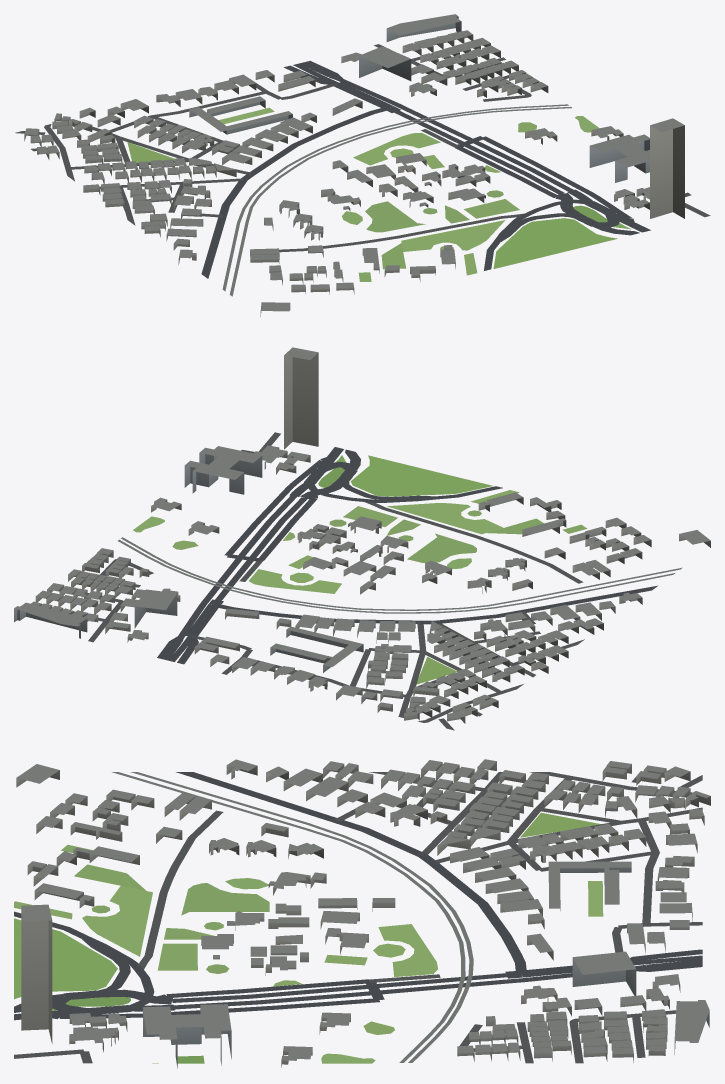
The picture shows the model from 3 angles, top to bottom: view 1: azimuth 30°, elevation 25°; view 2: azimuth 150°, elevation 25°; view 3: azimuth 270°, elevation 25°; orthographic projection. The views are drawn at different scales.
Parts seen in each view (by area): view 1: building, ground; view 2: building, ground; view 3: building, ground.
Boxes of the visible parts, bbox=[...] form: building: bbox=[24, 14, 684, 316]; ground: bbox=[15, 44, 710, 296]; building: bbox=[14, 347, 710, 723]; ground: bbox=[87, 432, 682, 730]; building: bbox=[16, 759, 710, 1068]; ground: bbox=[14, 772, 702, 1063].
Size of the model in its own units: 516 by 100 by 506.
